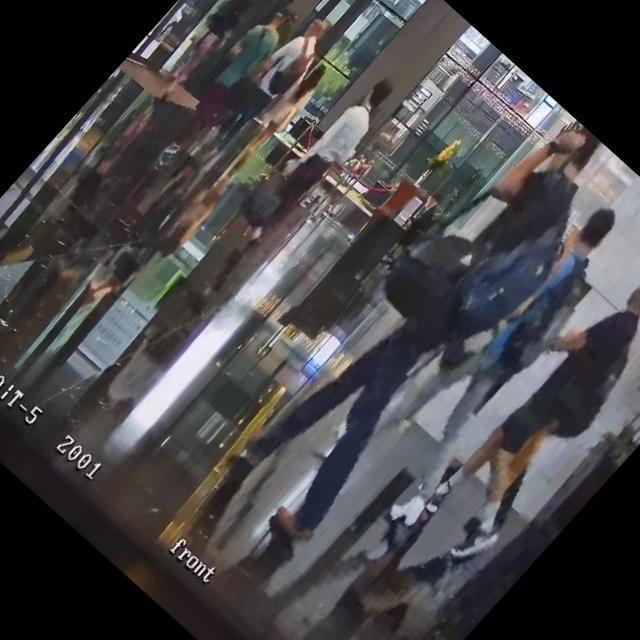person: (210, 96, 640, 554), (341, 193, 640, 532), (394, 243, 640, 576), (228, 71, 406, 262), (146, 0, 302, 163), (197, 7, 342, 162), (142, 0, 260, 112), (231, 58, 333, 168), (394, 188, 449, 245)
